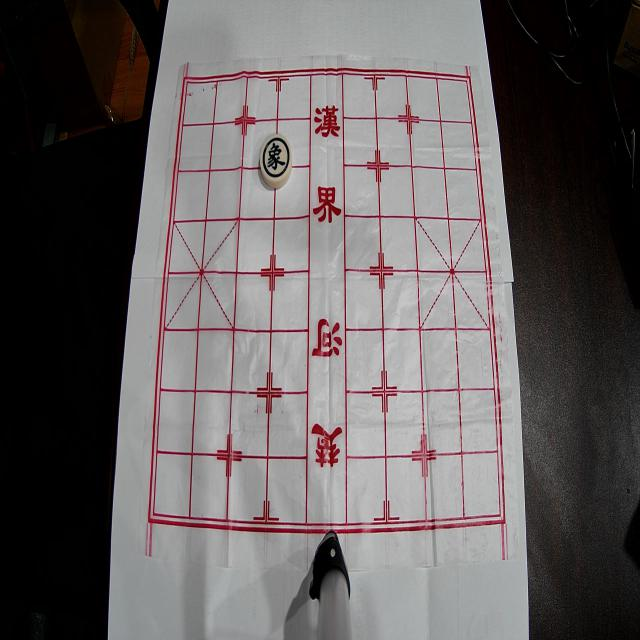black-elephant: (260, 134, 292, 188)
